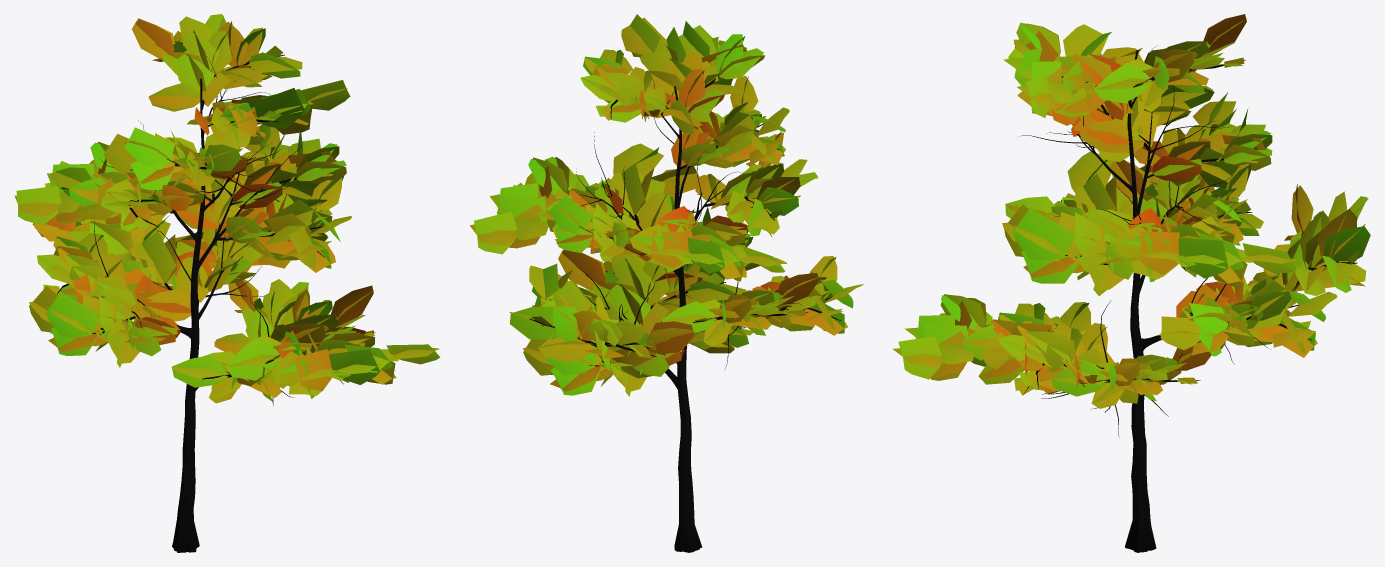
The model's file is Tree_tall_1.glb.
The picture shows the model from 3 angles, left to right: view 1: azimuth 30°, elevation 25°; view 2: azimuth 150°, elevation 25°; view 3: azimuth 270°, elevation 25°; orthographic projection. The views are drawn at different scales.
Visible parts, largest first — view 1: Tree tall 1; view 2: Tree tall 1; view 3: Tree tall 1.
Boxes of the visible parts, bbox=[...] form: Tree tall 1: bbox=[14, 14, 440, 552]; Tree tall 1: bbox=[470, 14, 863, 552]; Tree tall 1: bbox=[893, 14, 1370, 552].
Size of the model in its own units: 51.64 by 74.98 by 61.05.
